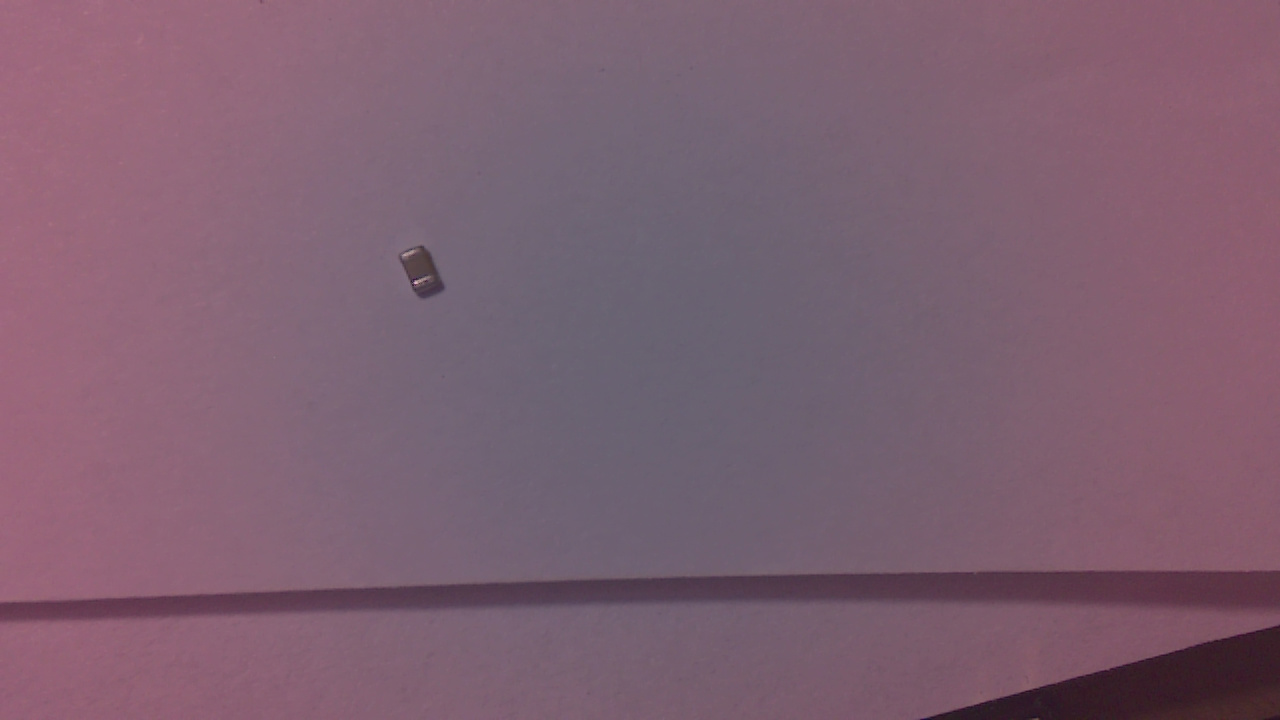Condensator: (399, 244, 452, 303)
